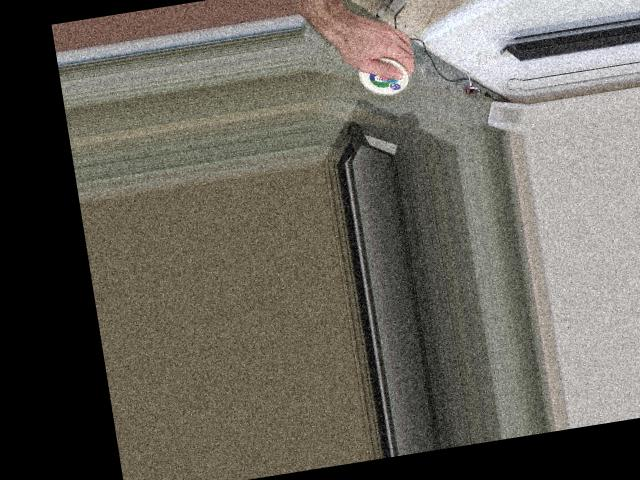cotage: (356, 49, 411, 99)
